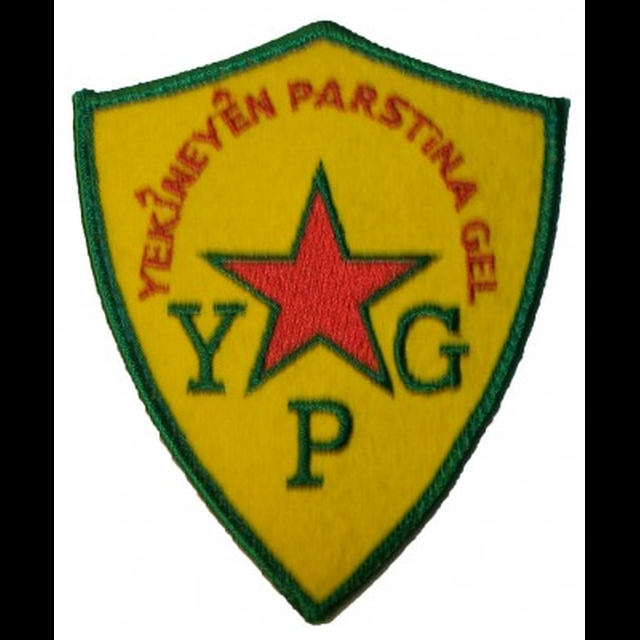YPG: (162, 156, 467, 493)
